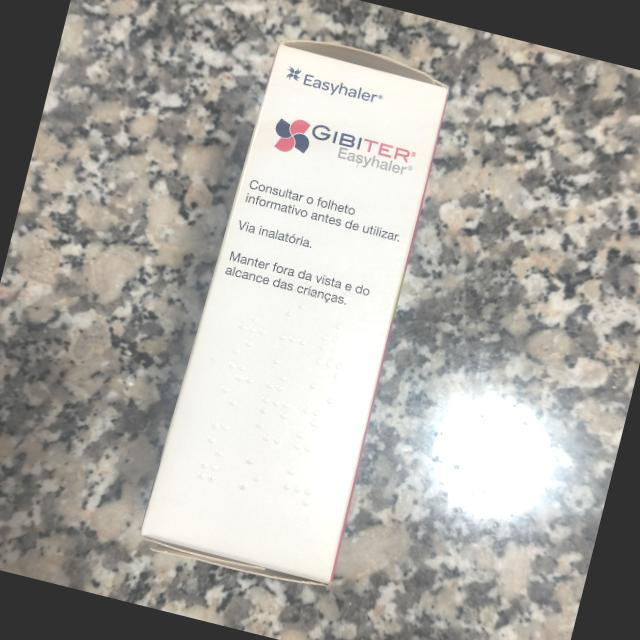box: (143, 41, 448, 592)
